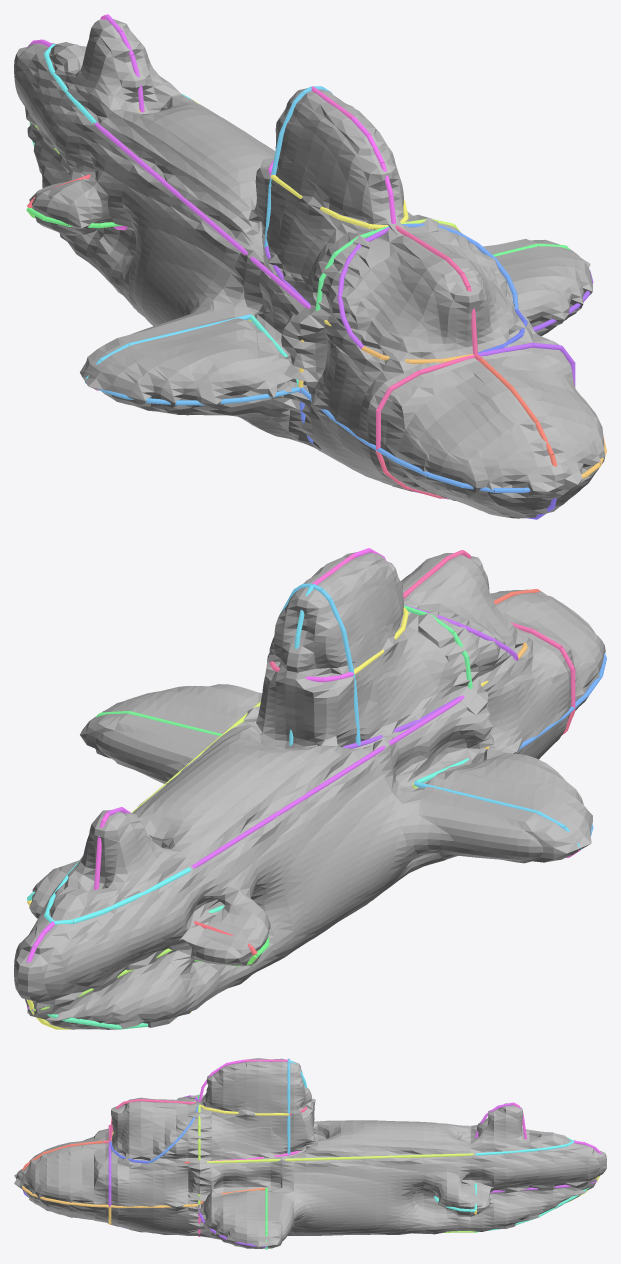
Rendered from scaffolds3d_submarine.gltf.
3 views of the same model, one above another, from view 1: azimuth 30°, elevation 25°; view 2: azimuth 150°, elevation 25°; view 3: azimuth 270°, elevation 25° (orthographic). The views are drawn at different scales.
Size of the model in its own units: 0.4658 by 0.2606 by 0.868.
